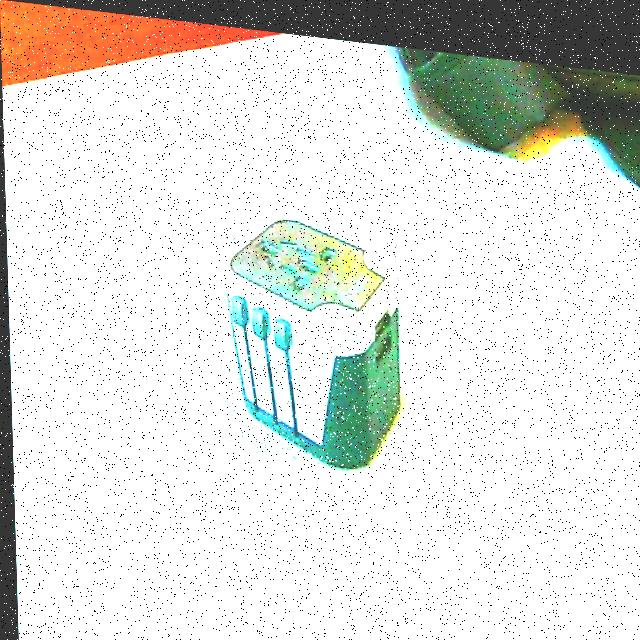adapter: (219, 201, 402, 466)
